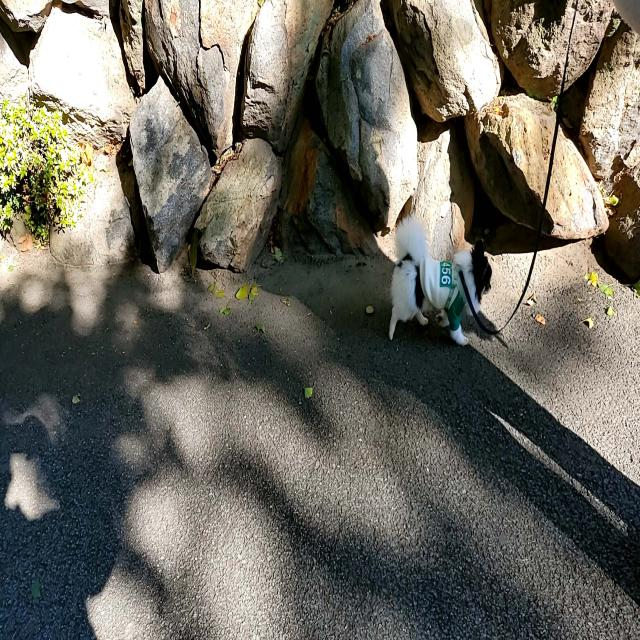Dog: (386, 210, 494, 344)
